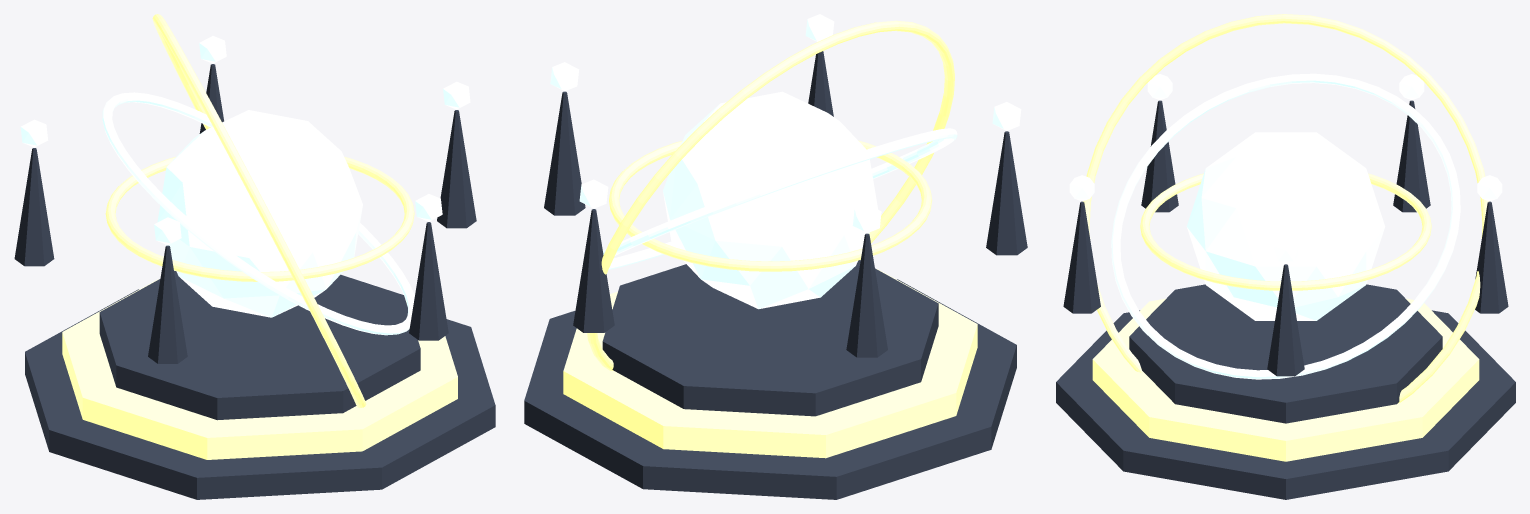
File: gpu-blender-v34.glb
3 views of the same model, side by side, from view 1: azimuth 30°, elevation 25°; view 2: azimuth 150°, elevation 25°; view 3: azimuth 270°, elevation 25° (orthographic). The views are drawn at different scales.
Parts seen in each view (by area): view 1: Cylinder.002, SovereignCore_mcp-lens, Cylinder, Cylinder.001, Torus.001, Torus.002, Torus, Cone.002, Cone.004, Cone.003, Cone, Icosphere.001 (+5 smaller); view 2: Cylinder.002, SovereignCore_mcp-lens, Cylinder, Cylinder.001, Torus.002, Torus, Torus.001, Cone.003, Cone.002, Cone, Cone.001, Cone.004 (+5 smaller); view 3: SovereignCore_mcp-lens, Cylinder.002, Cylinder, Cylinder.001, Torus.001, Torus.002, Torus, Cone, Cone.004, Cone.001, Cone.002, Cone.003 (+5 smaller).
Boxes of the visible parts, x1,y1,x2,y2 form: Cylinder.002: (99,271,420,420); SovereignCore_mcp-lens: (157,110,362,317); Cylinder: (25,289,495,499); Cylinder.001: (62,279,457,459); Torus.001: (102,92,414,335); Torus.002: (152,14,366,407); Torus: (105,156,414,281); Cone.002: (14,148,54,266); Cone.004: (409,222,448,340); Cone.003: (148,245,187,363); Cone: (437,110,476,228); Icosphere.001: (199,36,226,63); Cylinder.002: (602,260,938,416); SovereignCore_mcp-lens: (663,91,877,309); Cylinder: (524,279,1016,499); Cylinder.001: (563,269,977,458); Torus.002: (587,20,954,370); Torus: (609,140,932,271); Torus.001: (603,128,957,269); Cone.003: (986,131,1027,255); Cone.002: (846,233,887,357); Cone: (544,91,585,215); Cone.001: (573,209,614,332); Cone.004: (808,51,833,116); SovereignCore_mcp-lens: (1186,132,1385,320); Cylinder.002: (1129,284,1442,423); Cylinder: (1056,310,1515,499); Cylinder.001: (1092,298,1479,461); Torus.001: (1111,73,1460,379); Torus.002: (1083,14,1488,403); Torus: (1140,173,1431,290); Cone: (1267,264,1304,376); Cone.004: (1063,201,1100,313); Cone.001: (1475,201,1508,313); Cone.002: (1393,100,1430,212); Cone.003: (1141,100,1178,212).
Bounding box in the file's own units: 4.41 × 3.72 × 4.4.
